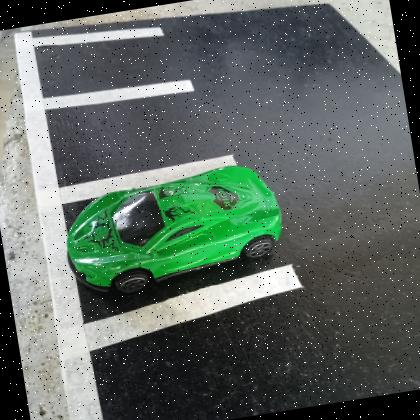Car: (66, 165, 283, 297)
